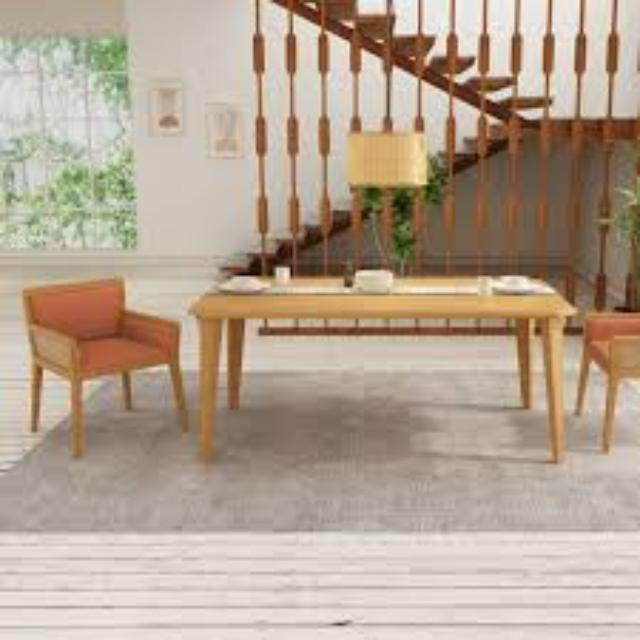obstacle: (7, 240, 185, 450)
